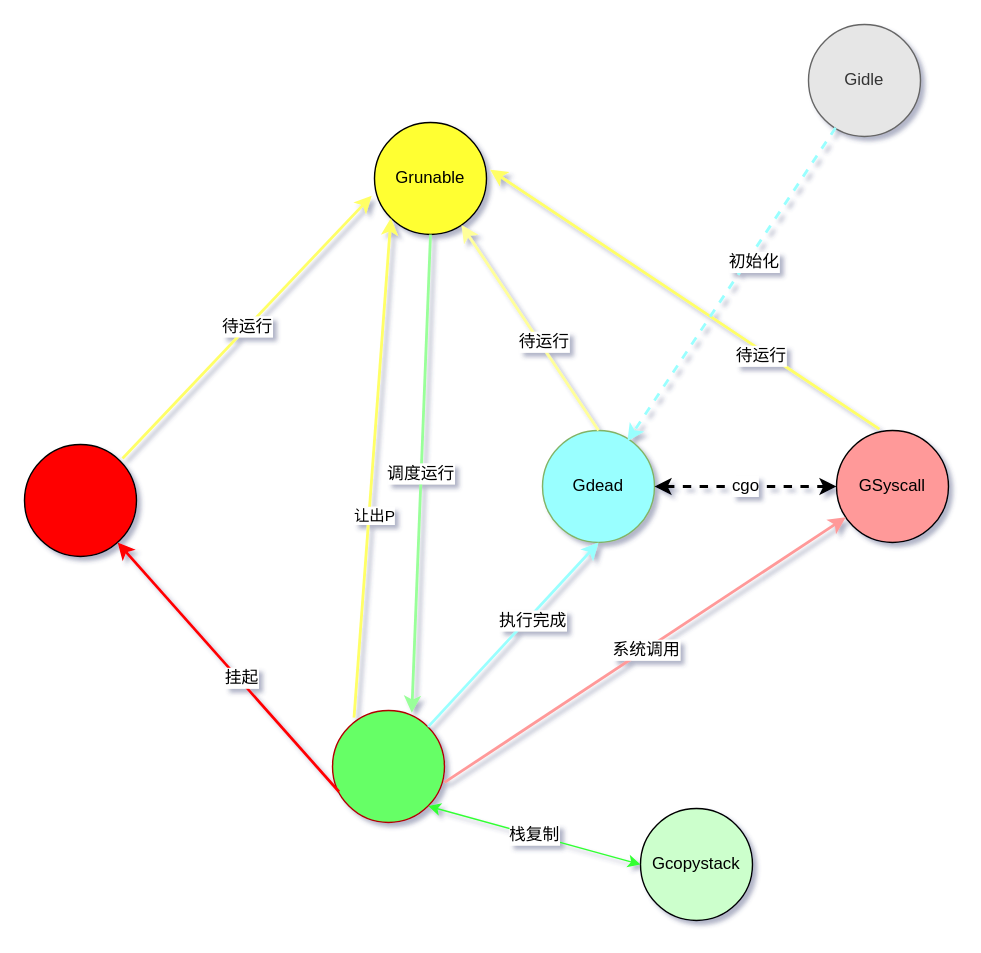
The diagram is 981 pixels wide and 953 high, and some of its shapes have lost their labels. Here are the shapes that lost their labels. From the top down, the box of each, then its label:
(23, 443, 136, 556): GWaiting
(331, 709, 444, 822): Gruning
